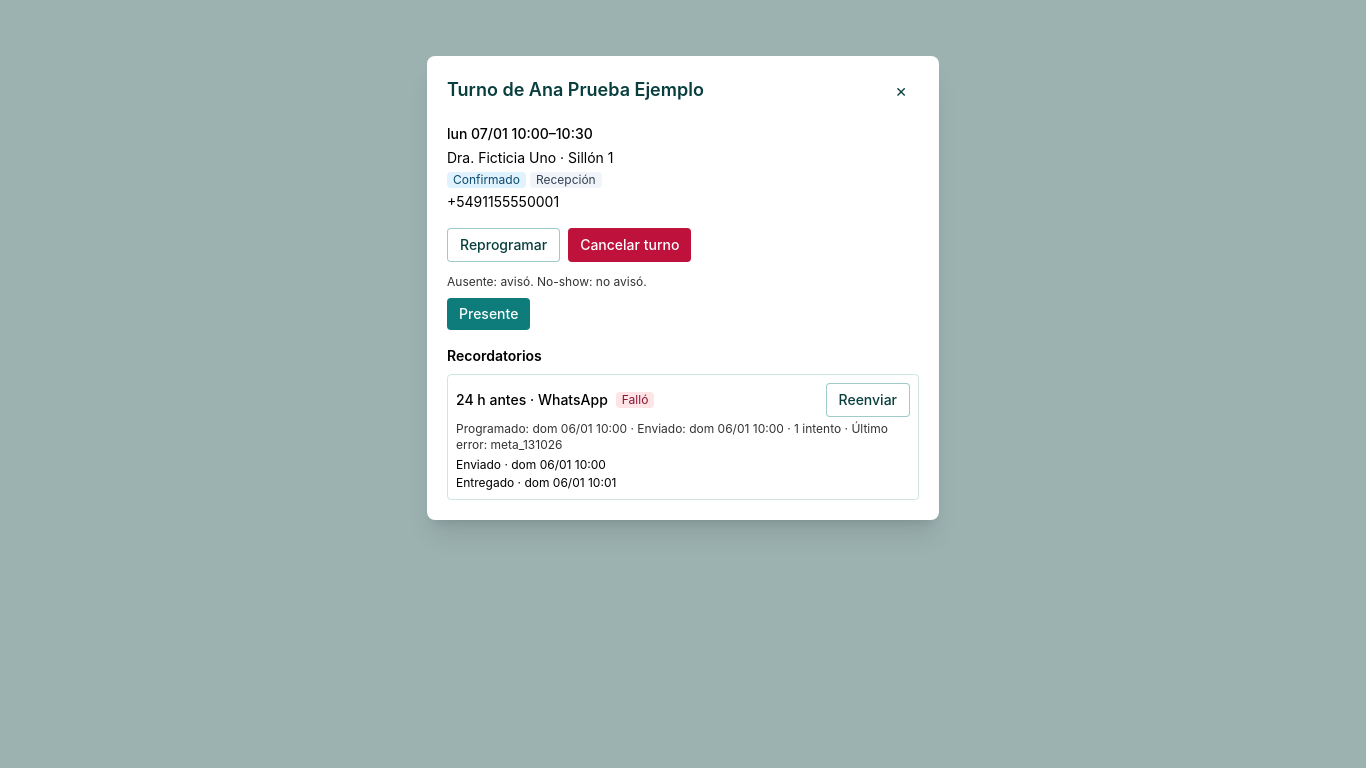
it: AppointmentDetail › recordatorios (C-11) › recepción reenvía: 202 muestra Reenvío en cola y refresca
Click the button with aria-label "Reenviar 24 h antes · WhatsApp" at (868, 400), box top-left (826, 383), bottom-right (910, 417)
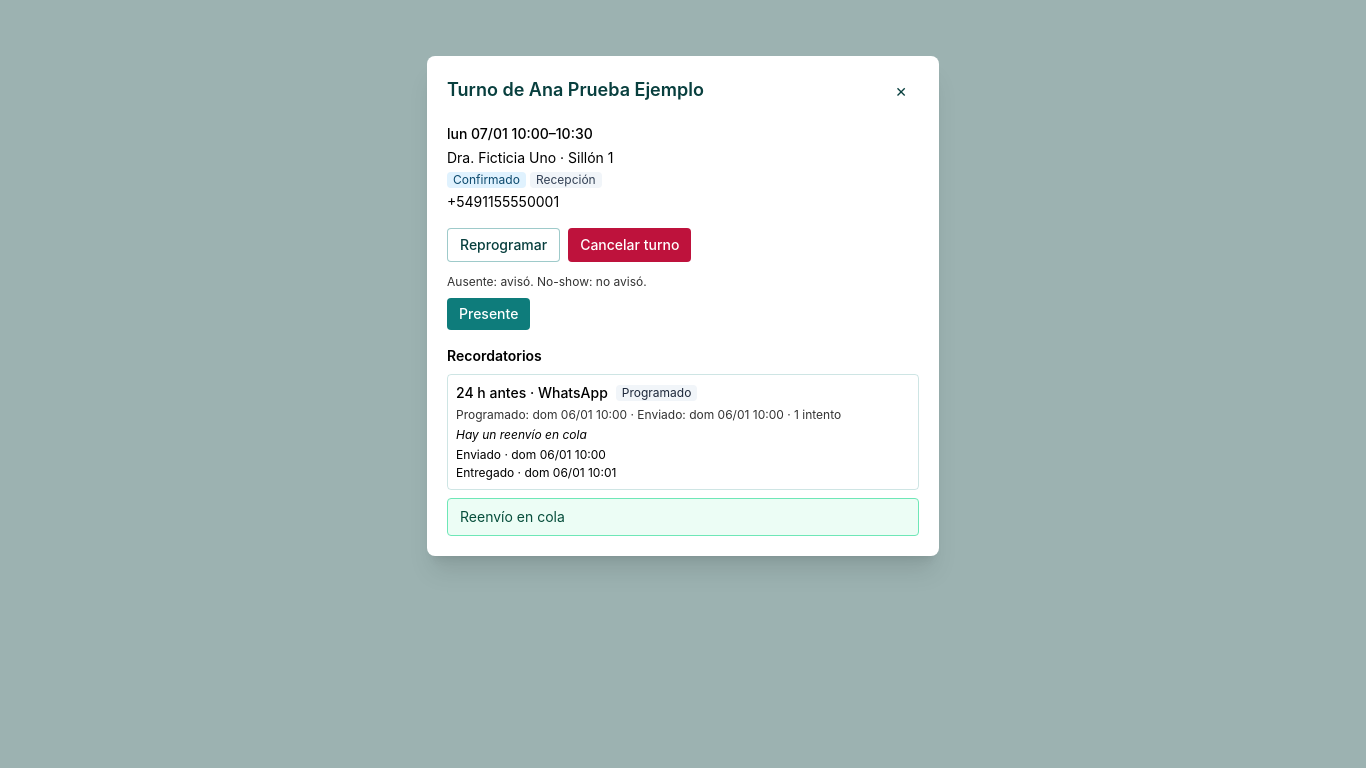
Now the text "Reenvío en cola" is shown, box top-left (447, 498), bottom-right (919, 536)
Now the text "Programado" is shown, box top-left (616, 385), bottom-right (697, 401)
